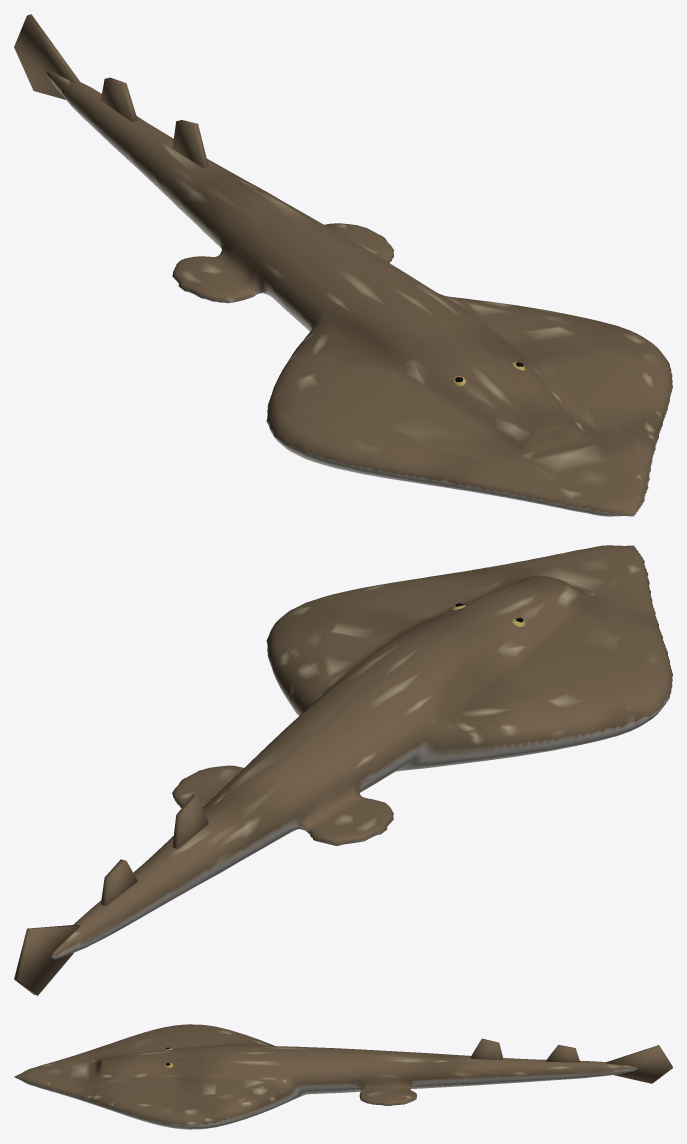
File: Spathobatis.fbx
3 renders of one model, top to bottom at view 1: azimuth 30°, elevation 25°; view 2: azimuth 150°, elevation 25°; view 3: azimuth 270°, elevation 25°, orthographic. The views are drawn at different scales.
Visible parts, largest first — view 1: Spathobatis; view 2: Spathobatis; view 3: Spathobatis.
Boxes of the visible parts, x1,y1,x2,y2 form: Spathobatis: [14, 14, 672, 516]; Spathobatis: [14, 545, 672, 995]; Spathobatis: [14, 1024, 672, 1129].
Bounding box in the file's own units: 0.6659 × 0.1669 × 1.9.
